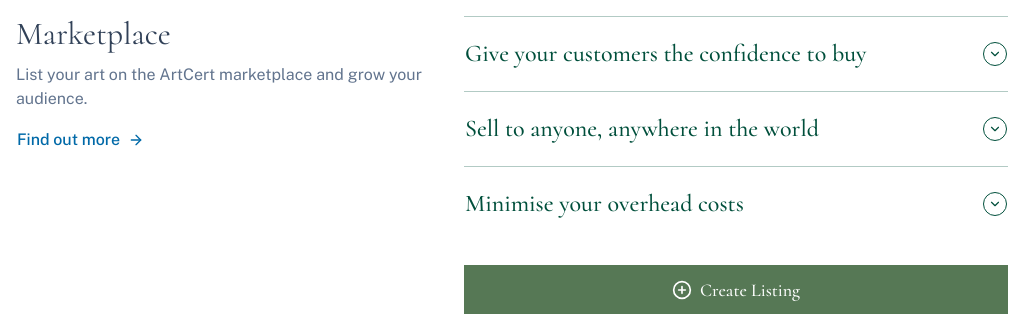
Test: ManageMarketplaceCard › Listing Form View › cancels button returns to intro view
Click the button "Create Listing" at (736,290), box [464,265,1008,314]
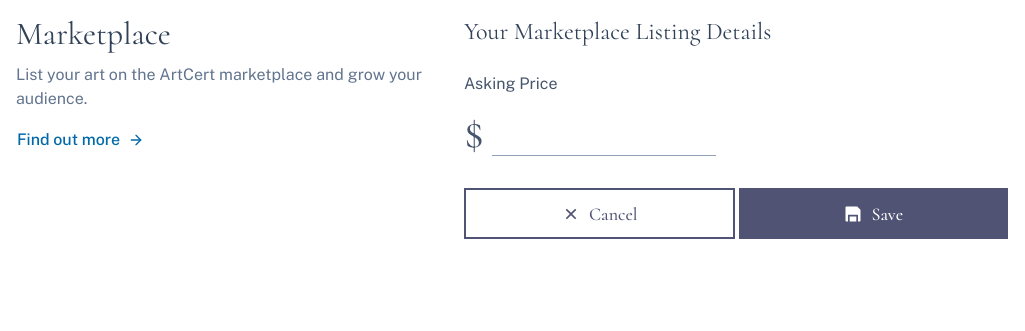
Click the button "Cancel" at (599,214), box [464,188,734,239]
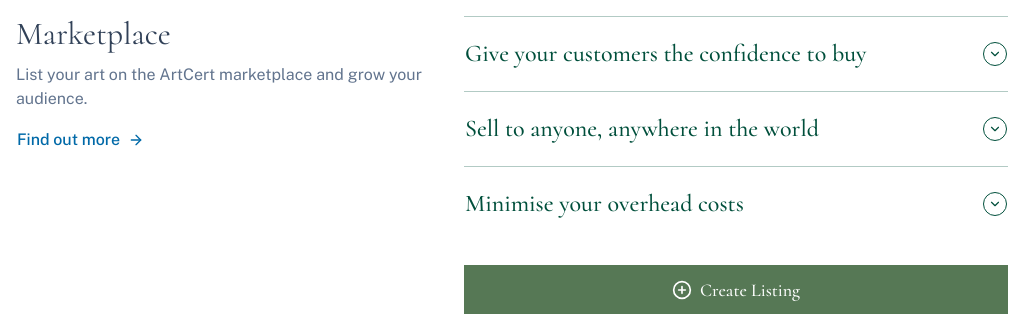
Expected: the text "Create Listing" is shown, [700,276,800,304]
Expected: the heading "Your Marketplace Listing Details" is gone
